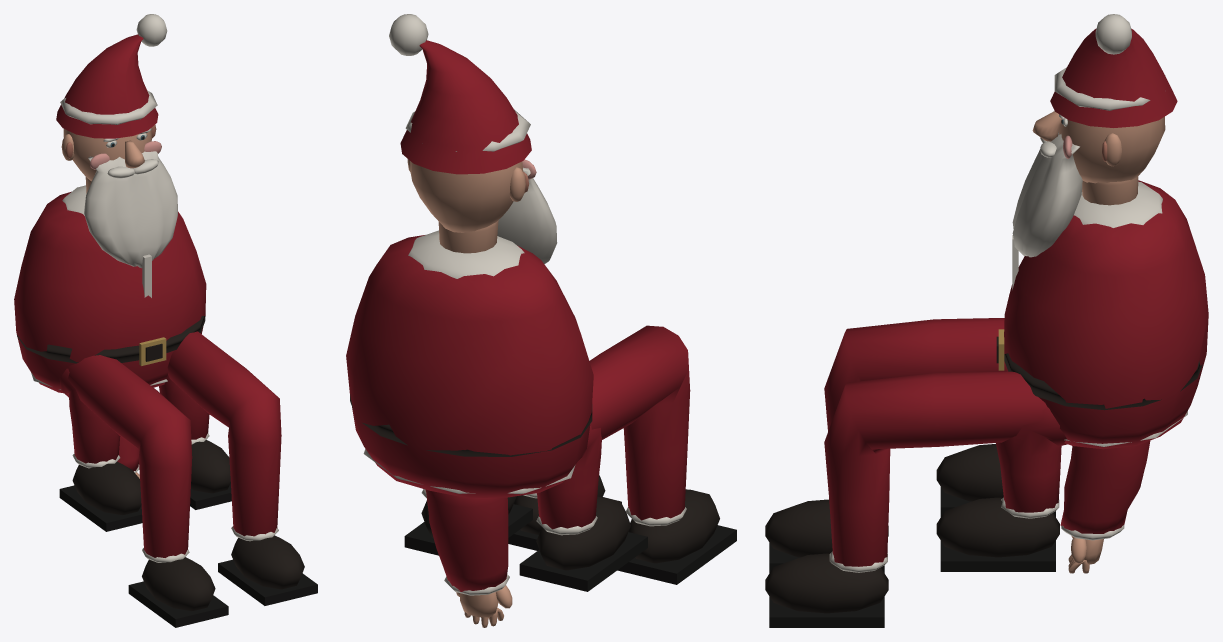
File: santa.glb
The picture shows the model from 3 angles, left to right: view 1: azimuth 30°, elevation 25°; view 2: azimuth 150°, elevation 25°; view 3: azimuth 270°, elevation 25°; orthographic projection. The views are drawn at different scales.
Visible parts, largest first — view 1: Santa_body, Santa_legs_sitting, Santa_legs_sleeping, Santa_arm_left; view 2: Santa_body, Santa_legs_sitting, Santa_legs_sleeping, Santa_arm_left; view 3: Santa_body, Santa_legs_sitting, Santa_legs_sleeping, Santa_arm_left.
Part boxes in pixels (x1,y1,x2,y2): Santa_body: (14, 14, 206, 393); Santa_legs_sitting: (67, 331, 317, 627); Santa_legs_sleeping: (59, 368, 231, 531); Santa_arm_left: (117, 436, 139, 473); Santa_body: (346, 14, 593, 497); Santa_legs_sitting: (508, 325, 736, 584); Santa_legs_sleeping: (404, 423, 647, 591); Santa_arm_left: (426, 489, 512, 627); Santa_body: (996, 14, 1208, 449); Santa_legs_sitting: (765, 318, 1047, 627); Santa_legs_sleeping: (936, 407, 1067, 571); Santa_arm_left: (1060, 441, 1150, 573).
Bounding box in the file's own units: 0.62 × 1.65 × 1.11.
